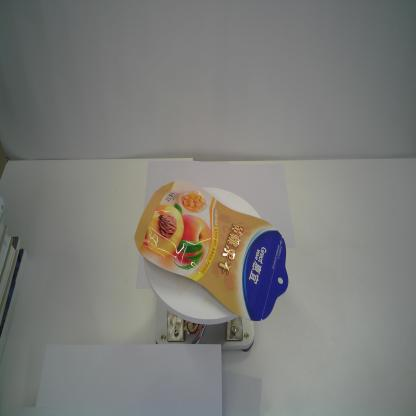Dried Fruit: (134, 179, 288, 322)
